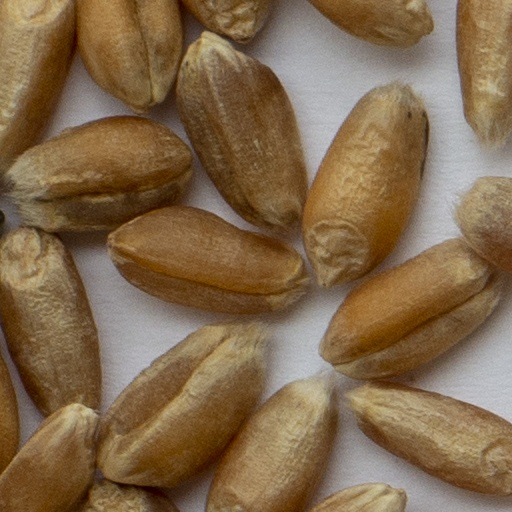Wheat-grain-poly: (0, 0, 77, 186), (75, 0, 185, 113), (300, 0, 431, 46), (184, 0, 271, 39)
